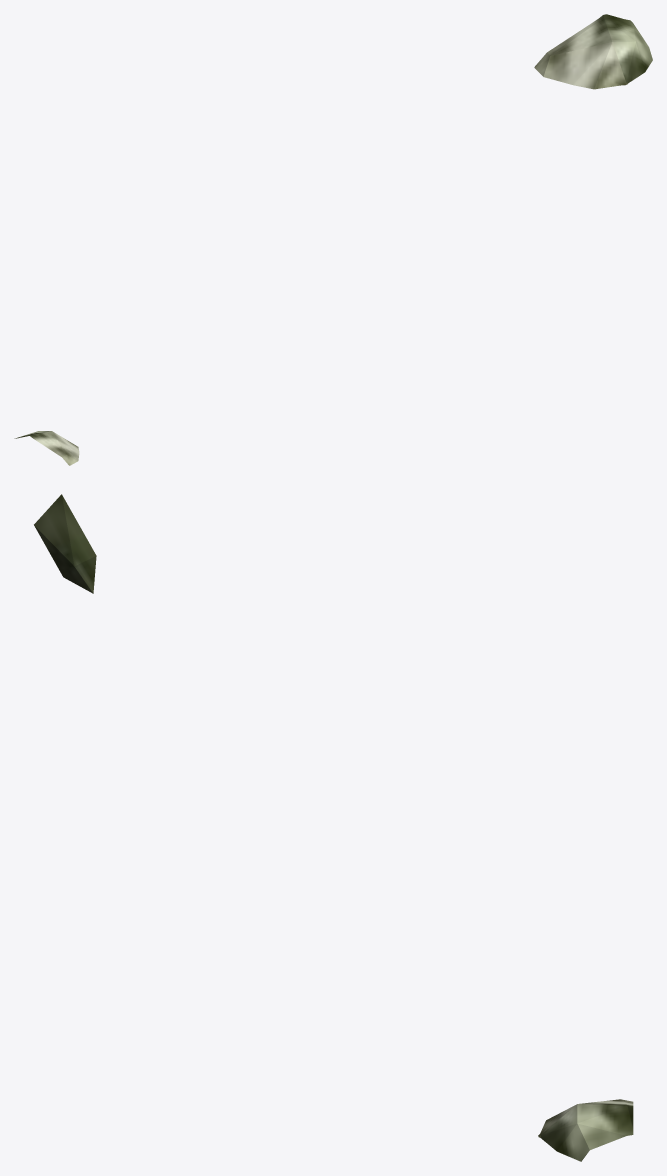
3 renders of one model, top to bottom at view 1: azimuth 30°, elevation 25°; view 2: azimuth 150°, elevation 25°; view 3: azimuth 270°, elevation 25°, orthographic. The views are drawn at different scales.
Bounding box in the file's own units: 2.95 × 0.5488 × 1.57.
1 material, 1 textured.
